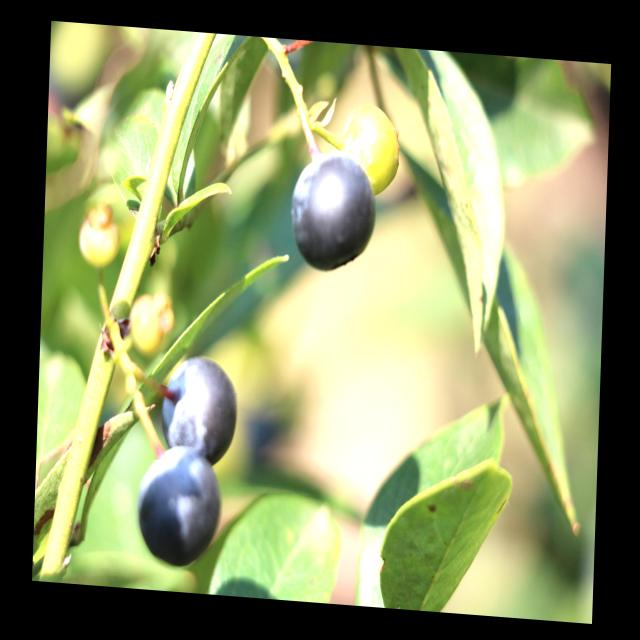blueberry: (286, 146, 379, 274), (135, 442, 222, 570), (160, 352, 241, 468)
blueberry-unripe: (341, 99, 402, 196), (77, 209, 122, 267), (126, 293, 166, 356)
